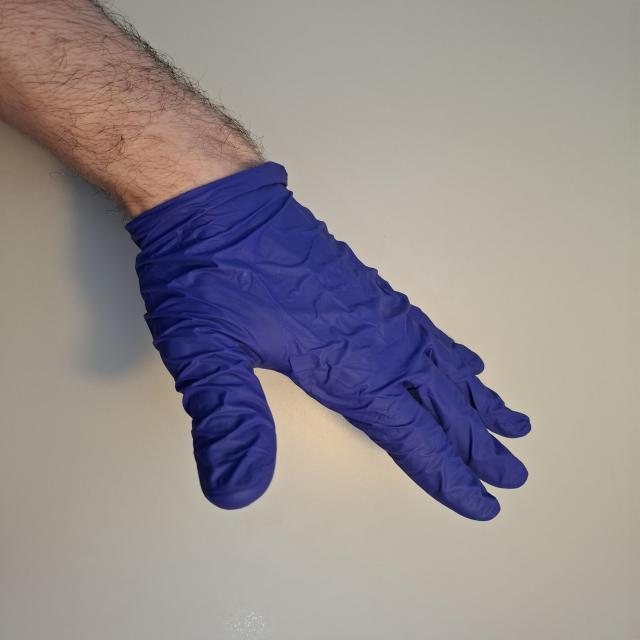glove_on: (120, 156, 536, 523)
